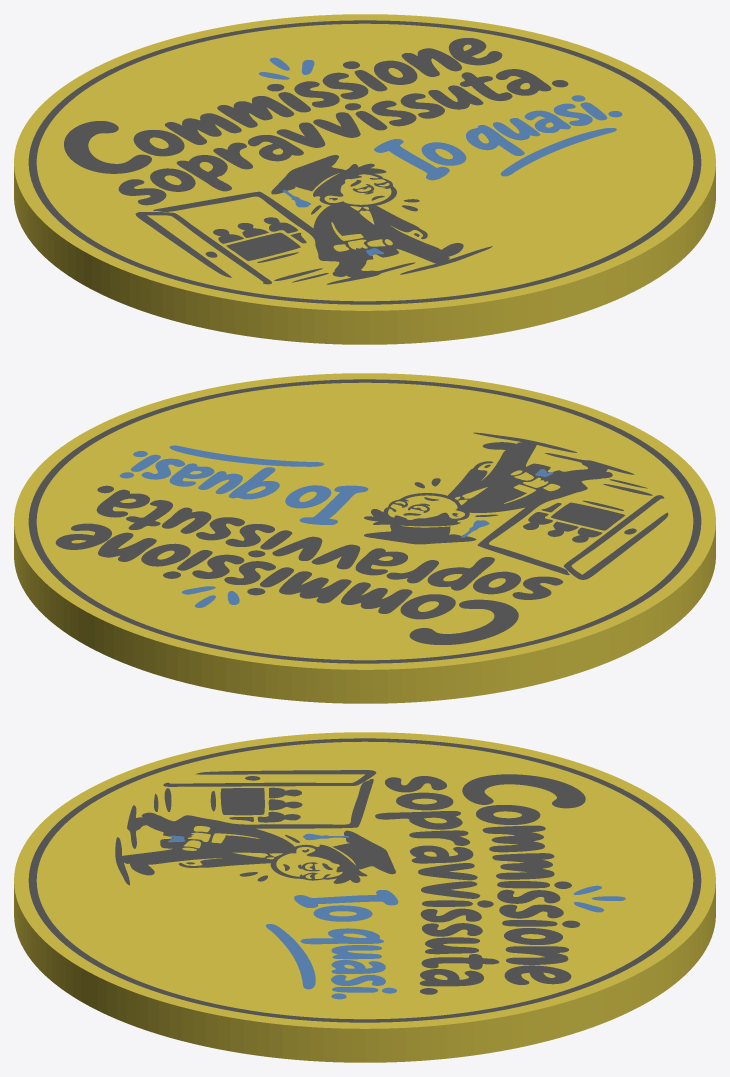
File: sottobicchiere-commissione-sopravvissuta.glb
The picture shows the model from 3 angles, top to bottom: view 1: azimuth 30°, elevation 25°; view 2: azimuth 150°, elevation 25°; view 3: azimuth 270°, elevation 25°; orthographic projection.
Visible parts, largest first — view 1: coaster_base, coaster_ink, coaster_accent; view 2: coaster_base, coaster_ink, coaster_accent; view 3: coaster_base, coaster_ink, coaster_accent.
Part boxes in pixels (x1,y1,x2,y2): coaster_base: [14, 14, 715, 344]; coaster_ink: [28, 20, 701, 304]; coaster_accent: [259, 57, 622, 255]; coaster_base: [14, 373, 715, 703]; coaster_ink: [28, 379, 701, 663]; coaster_accent: [120, 445, 553, 607]; coaster_base: [14, 732, 715, 1062]; coaster_ink: [28, 738, 701, 1022]; coaster_accent: [168, 833, 625, 999].
Size of the model in its own units: 0.075 by 0.004 by 0.075.
